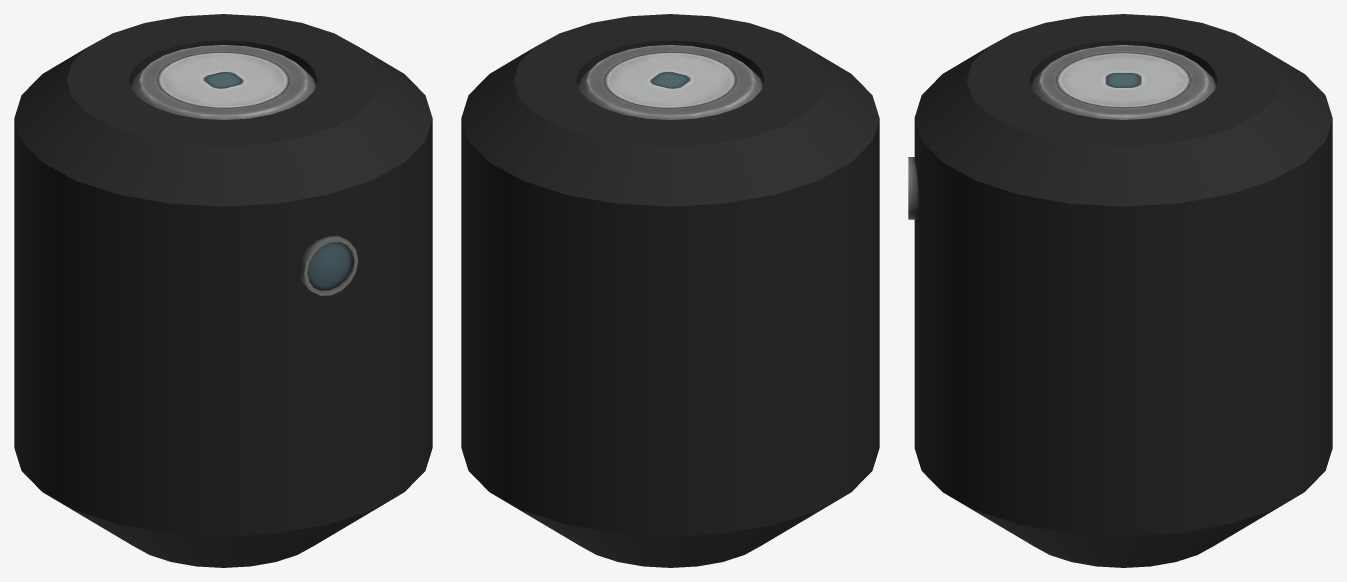
The model's file is Tantares_Habitation_2.obj.
The picture shows the model from 3 angles, left to right: view 1: azimuth 30°, elevation 25°; view 2: azimuth 150°, elevation 25°; view 3: azimuth 270°, elevation 25°; orthographic projection.
Visible parts, largest first — view 1: Tantares_Habitation_2, Tantares_Habitation_2_Window; view 2: Tantares_Habitation_2; view 3: Tantares_Habitation_2.
Boxes of the visible parts, bbox=[...] form: Tantares_Habitation_2: bbox=[14, 14, 432, 567]; Tantares_Habitation_2_Window: bbox=[307, 242, 352, 290]; Tantares_Habitation_2: bbox=[461, 14, 879, 567]; Tantares_Habitation_2: bbox=[908, 14, 1332, 567].
Size of the model in its own units: 1.25 by 1.46 by 1.27.
